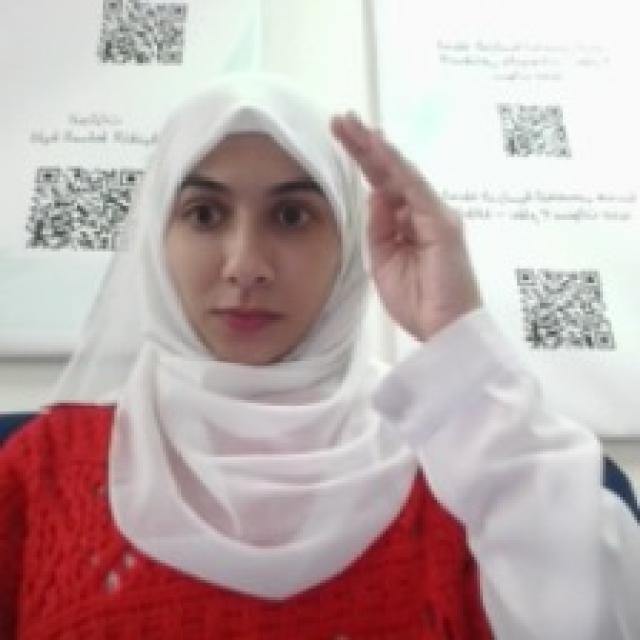Thanks: (323, 103, 474, 331)
